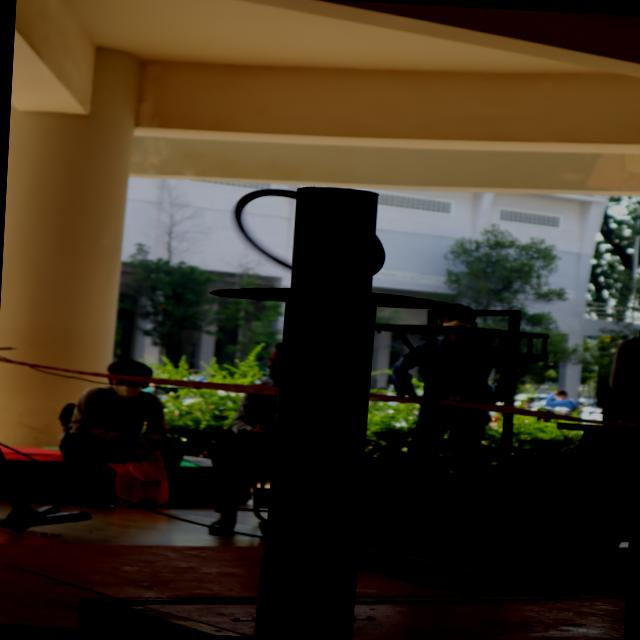pole: (199, 178, 469, 393)
